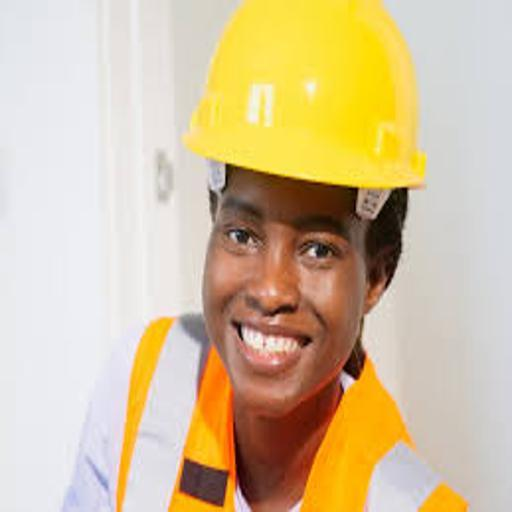Hard_hat: (185, 1, 450, 213)
Humans: (58, 181, 473, 512)
Vest: (126, 308, 465, 512)
